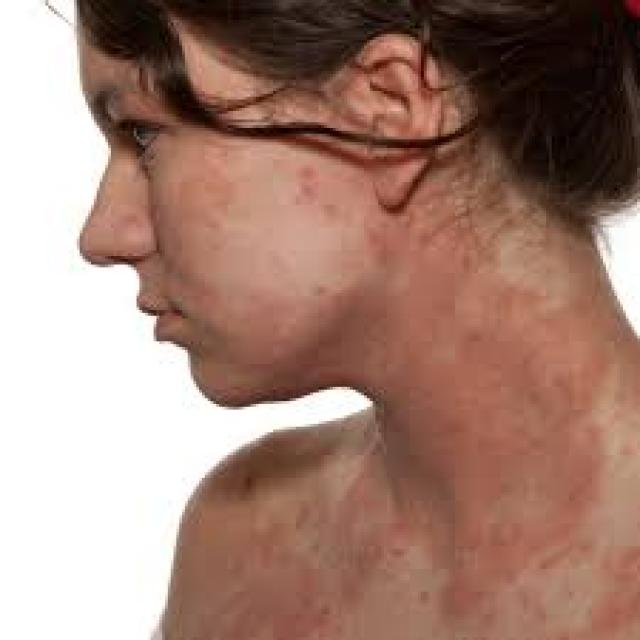Eczema: (238, 158, 345, 296)
